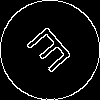E: (25, 25, 80, 82)
